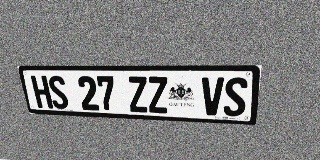2: (77, 76, 99, 110)
7: (95, 76, 117, 111)
H: (30, 75, 53, 109)
S: (223, 77, 248, 117), (47, 76, 70, 109)
V: (201, 77, 224, 116)
Z: (127, 76, 149, 113), (147, 77, 168, 113)
